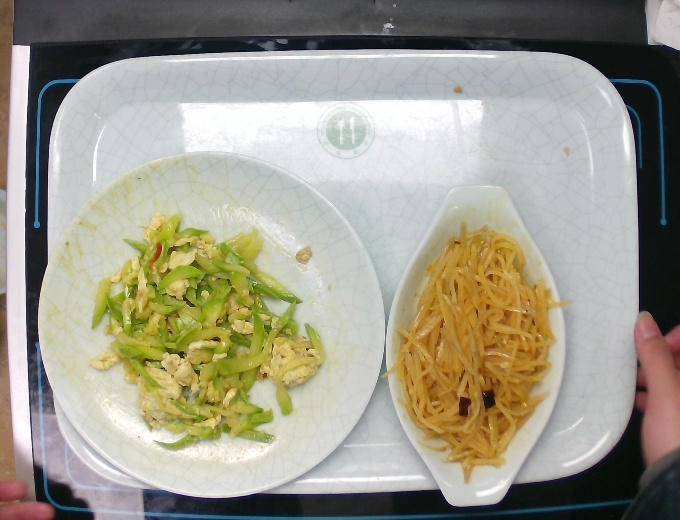JYsf-Da_Yuan_Pan: (35, 146, 390, 505)
JYsf-Yu_Pan: (386, 178, 569, 517)
